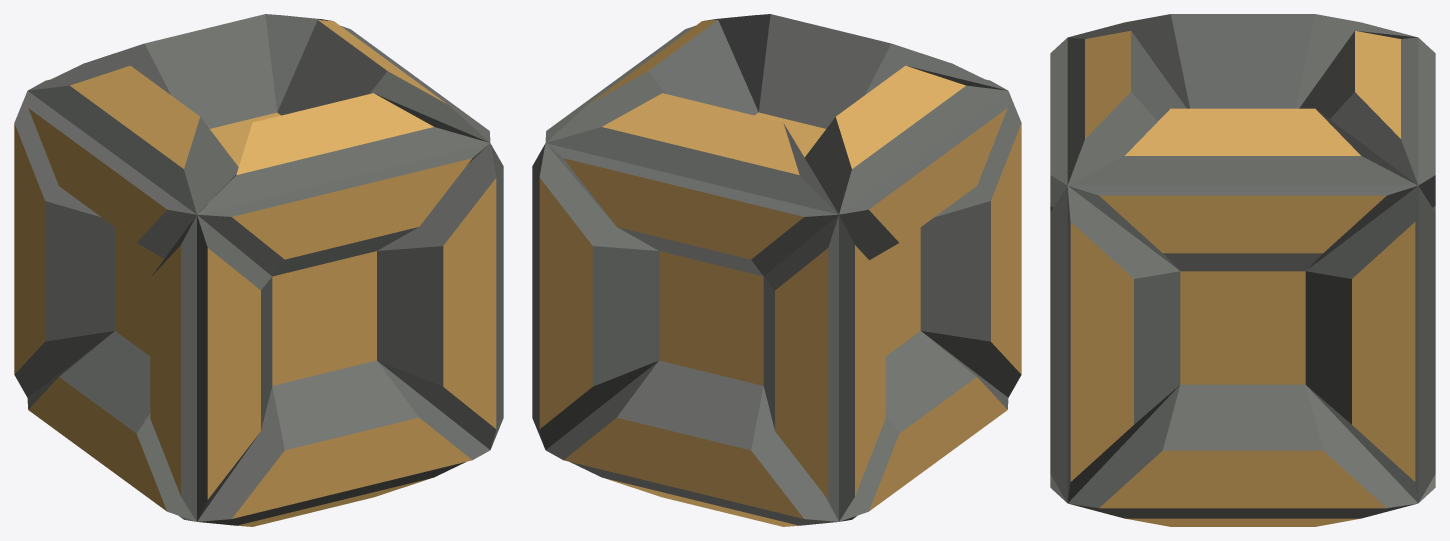
File: MentarisEssence.fbx
3 views of the same model, side by side, from view 1: azimuth 30°, elevation 25°; view 2: azimuth 150°, elevation 25°; view 3: azimuth 270°, elevation 25° (orthographic). The views are drawn at different scales.
Visible parts, largest first — view 1: Cube; view 2: Cube; view 3: Cube.
Part boxes in pixels (x1,y1,x2,y2): Cube: (14,14,503,526); Cube: (532,14,1021,526); Cube: (1050,14,1435,526).
Bounding box in the file's own units: 177 × 212 × 177.
